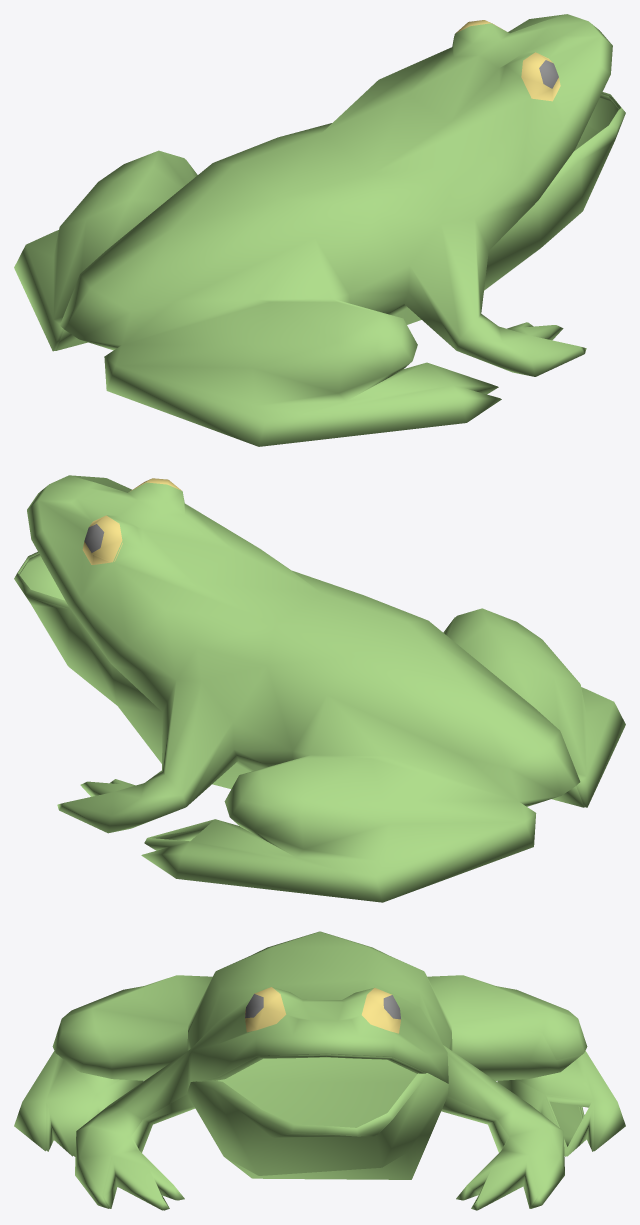
The model's file is frogCan.fbx.
The picture shows the model from 3 angles, top to bottom: view 1: azimuth 30°, elevation 25°; view 2: azimuth 150°, elevation 25°; view 3: azimuth 270°, elevation 25°; orthographic projection. The views are drawn at different scales.
Visible parts, largest first — view 1: Frog, Frog.001; view 2: Frog, Frog.001; view 3: Frog, Frog.001.
Boxes of the visible parts, x1=… form: Frog: x1=14, y1=14, x2=625, y2=446; Frog.001: x1=55, y1=36, x2=619, y2=398; Frog: x1=14, y1=475, x2=625, y2=902; Frog.001: x1=19, y1=542, x2=584, y2=854; Frog: x1=14, y1=931, x2=625, y2=1210; Frog.001: x1=46, y1=1025, x2=594, y2=1210.
Size of the model in its own units: 2809 by 1132 by 2643.
